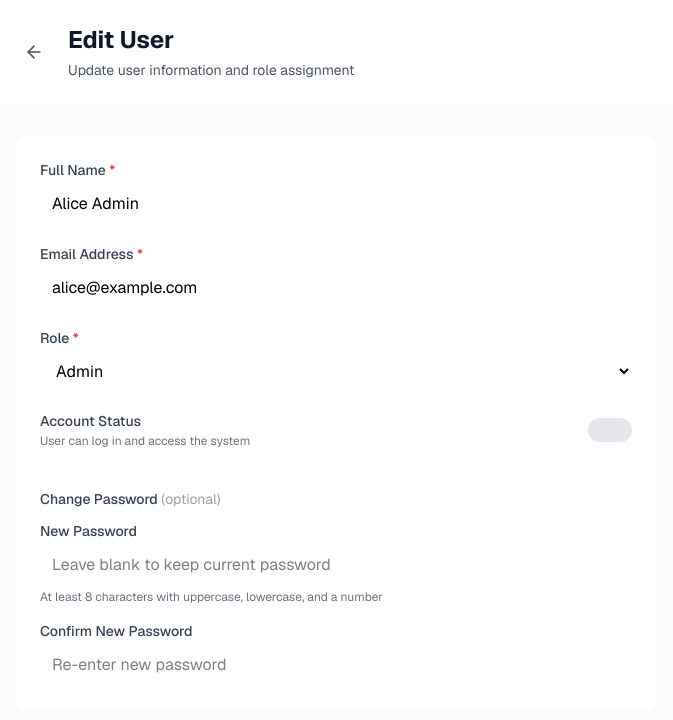
Test: EditUserPage › shows validation error for password mismatch
Type "Password1" into the password field labelled "New Password". click: (336, 565)
box: x1=40 y1=545 x2=632 y2=585
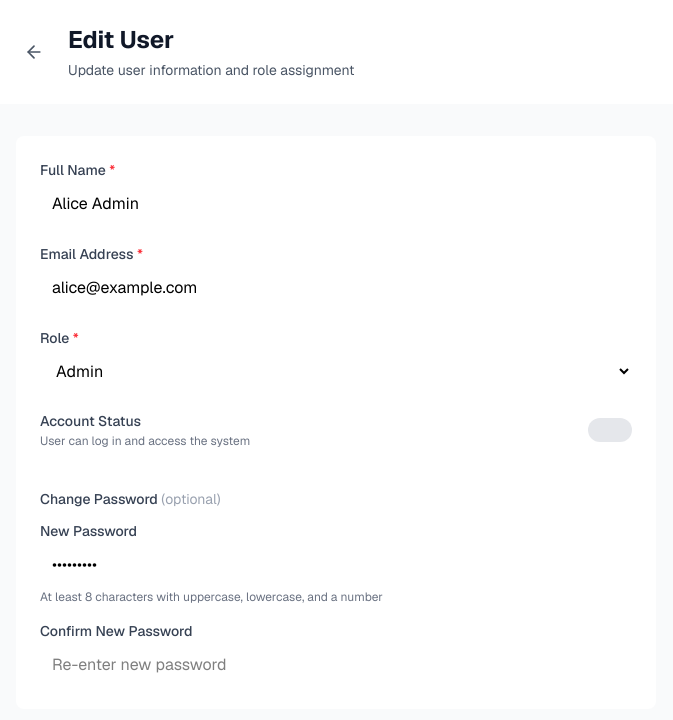
Type "Password2" into the password field labelled "Confirm New Password". click: (336, 665)
box: x1=40 y1=645 x2=632 y2=685
(page scrolled)
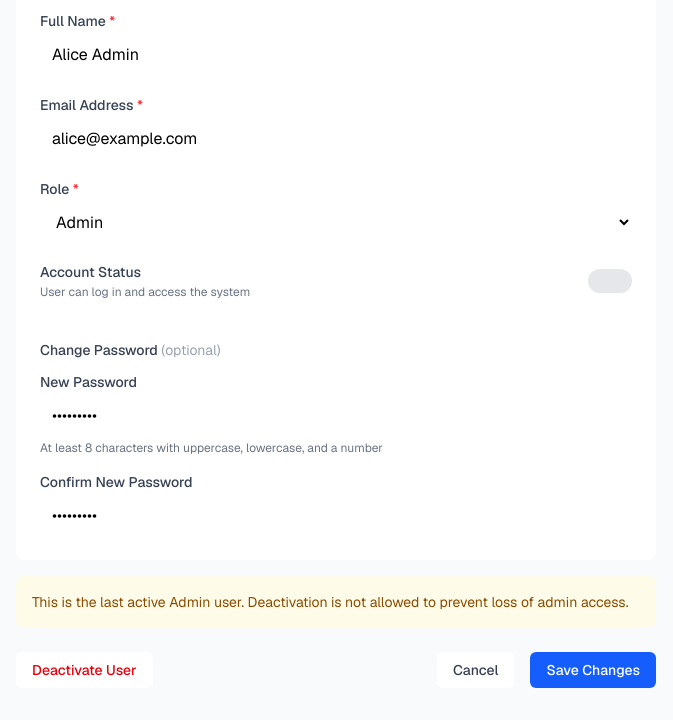
Click the button "Save Changes". click: (593, 670)
box: x1=530 y1=652 x2=656 y2=688
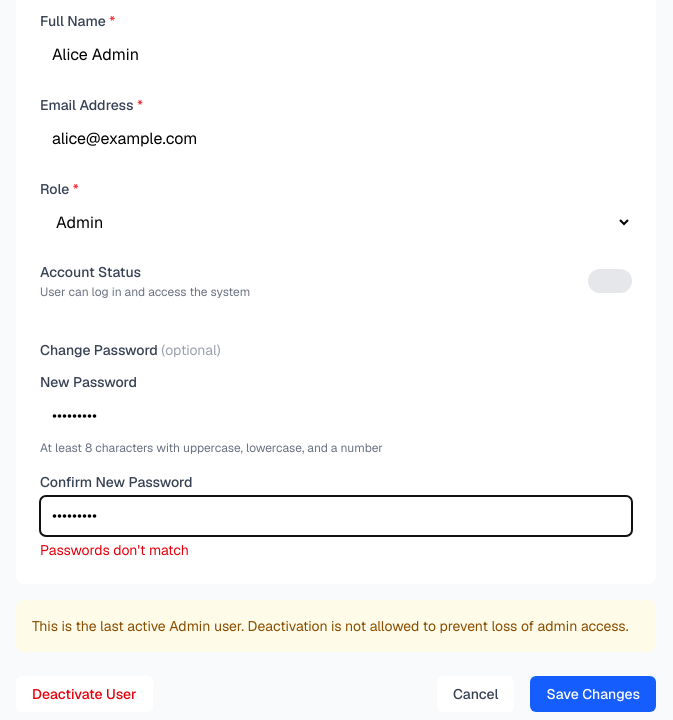
Expected: the text "Passwords don't match" is shown, x1=40 y1=541 x2=189 y2=559
